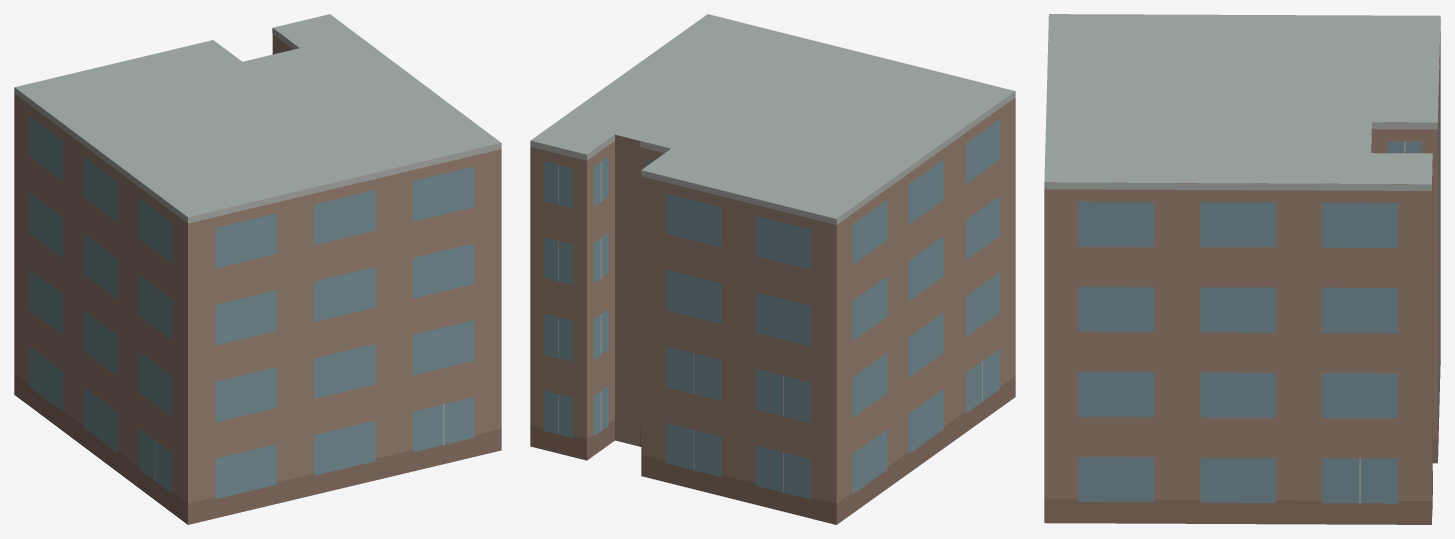
File: residential-4f97fada-ab98-4105-92c5-634cd3a15e7c.glb
3 renders of one model, left to right at view 1: azimuth 30°, elevation 25°; view 2: azimuth 150°, elevation 25°; view 3: azimuth 270°, elevation 25°, orthographic. The views are drawn at different scales.
Visible parts, largest first — view 1: residential-4f97fada-ab98-4105-92c5-634cd3a15e7c.tmp; view 2: residential-4f97fada-ab98-4105-92c5-634cd3a15e7c.tmp; view 3: residential-4f97fada-ab98-4105-92c5-634cd3a15e7c.tmp.
Boxes of the visible parts, box(x1,y1,x2,y2) form: residential-4f97fada-ab98-4105-92c5-634cd3a15e7c.tmp: box(14, 14, 501, 524); residential-4f97fada-ab98-4105-92c5-634cd3a15e7c.tmp: box(530, 14, 1015, 524); residential-4f97fada-ab98-4105-92c5-634cd3a15e7c.tmp: box(1044, 14, 1440, 524).
Bounding box in the file's own units: 13.08 × 12.2 × 12.87.
